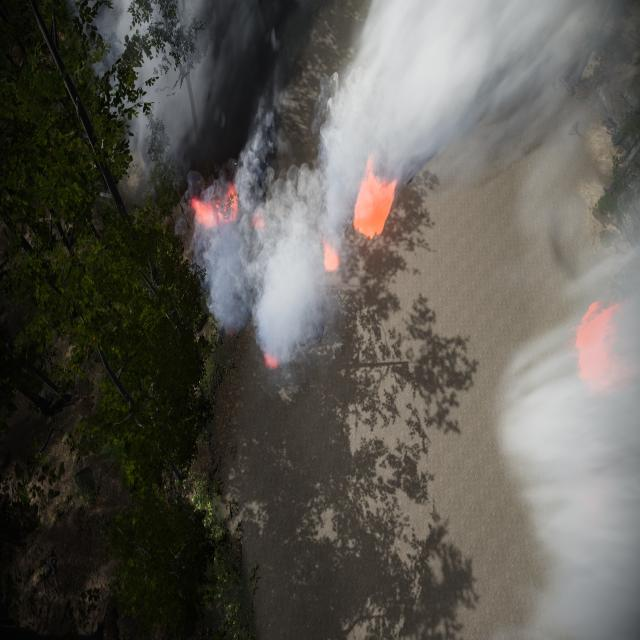Human: (294, 300, 331, 359)
